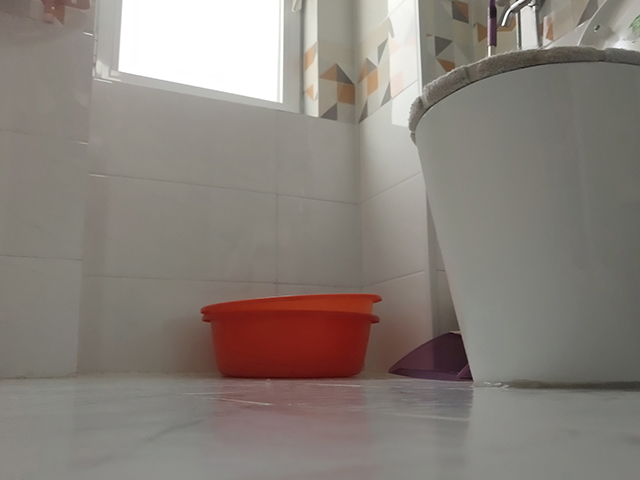closestool: (405, 1, 640, 389)
